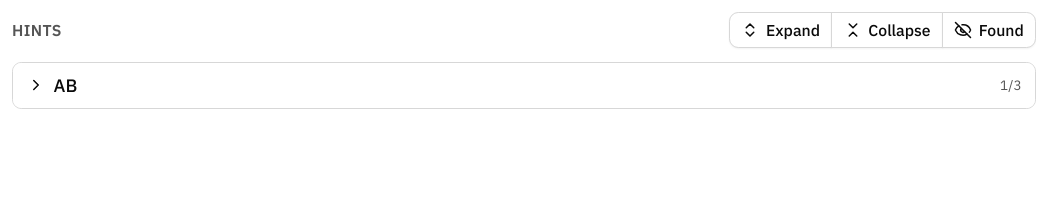
Test: HintsList › found words tracking › handles multiple hints of same length correctly
This screenshot has width=1048, height=209.
Step 1. Click the button "AB 1/3" → {"x": 36, "y": 85}, box [13,62,1035,108]
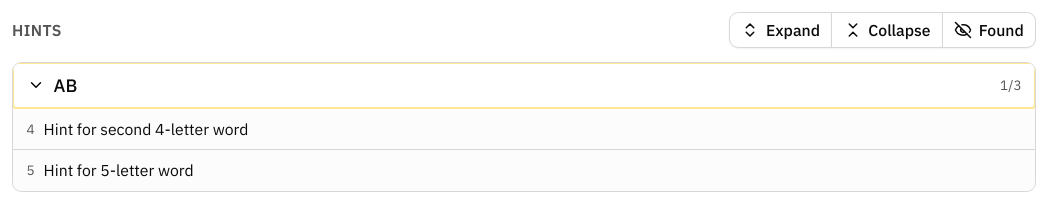
Expected: the text "Hint for second 4-letter word" is shown, [44,118,248,140]
Expected: the text "Hint for 5-letter word" is shown, [44,159,194,182]
